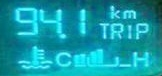-: (58, 32, 66, 37)
1: (75, 7, 86, 35)
4: (36, 7, 62, 32)
9: (11, 6, 36, 35)
X: (131, 49, 150, 66), (53, 51, 72, 67), (134, 21, 150, 39), (109, 22, 123, 39), (96, 21, 109, 38), (108, 4, 119, 19), (121, 9, 136, 18), (124, 23, 132, 38)
